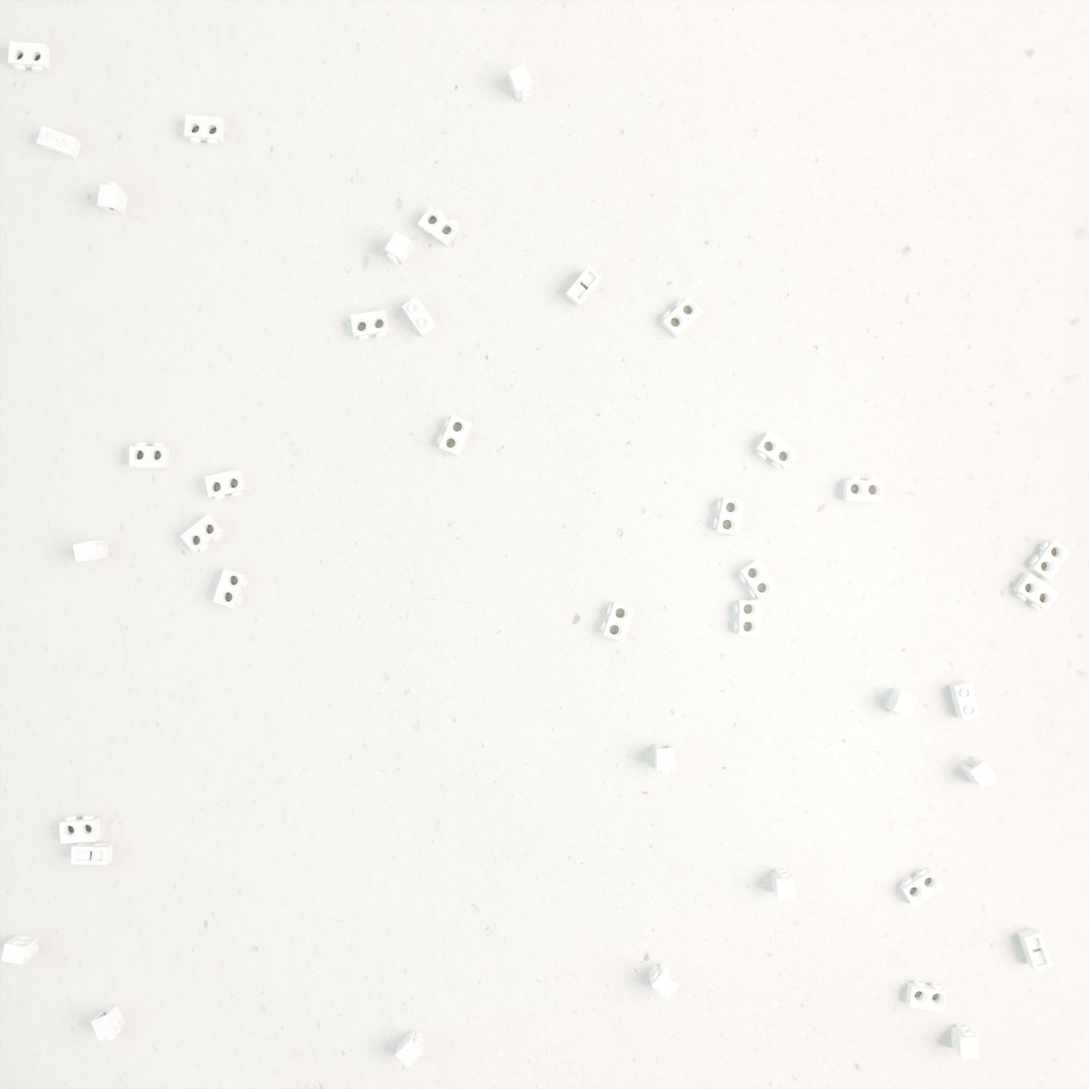lego: (899, 867, 944, 908), (1028, 540, 1072, 581), (180, 514, 225, 553), (1013, 573, 1059, 611), (418, 207, 460, 248), (662, 297, 703, 339), (755, 431, 798, 470), (738, 559, 778, 600), (36, 126, 82, 160), (1018, 927, 1052, 972), (437, 415, 473, 457), (402, 296, 438, 338), (566, 266, 602, 308), (213, 568, 248, 608), (601, 601, 635, 642), (905, 980, 947, 1012), (204, 469, 247, 500), (8, 41, 51, 72), (91, 1004, 125, 1042), (184, 114, 225, 145), (949, 680, 980, 721), (713, 497, 745, 536), (350, 310, 390, 341), (960, 756, 997, 789), (59, 815, 101, 844), (395, 1029, 425, 1068), (1, 934, 38, 965), (649, 963, 679, 1000), (843, 476, 883, 503), (129, 442, 169, 468), (97, 182, 128, 215), (886, 687, 918, 718), (385, 231, 414, 265), (951, 1024, 979, 1059), (734, 600, 761, 636), (508, 64, 533, 101), (71, 843, 113, 865), (771, 868, 796, 901), (73, 540, 109, 562), (654, 744, 675, 773)
